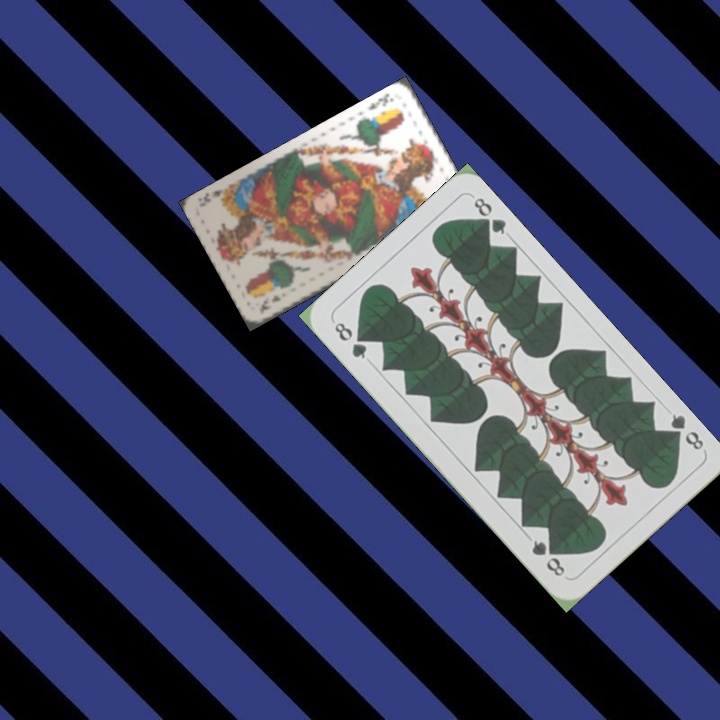EK: (255, 291, 284, 317), (364, 90, 396, 113)
G8: (662, 409, 707, 453), (330, 317, 370, 362)
